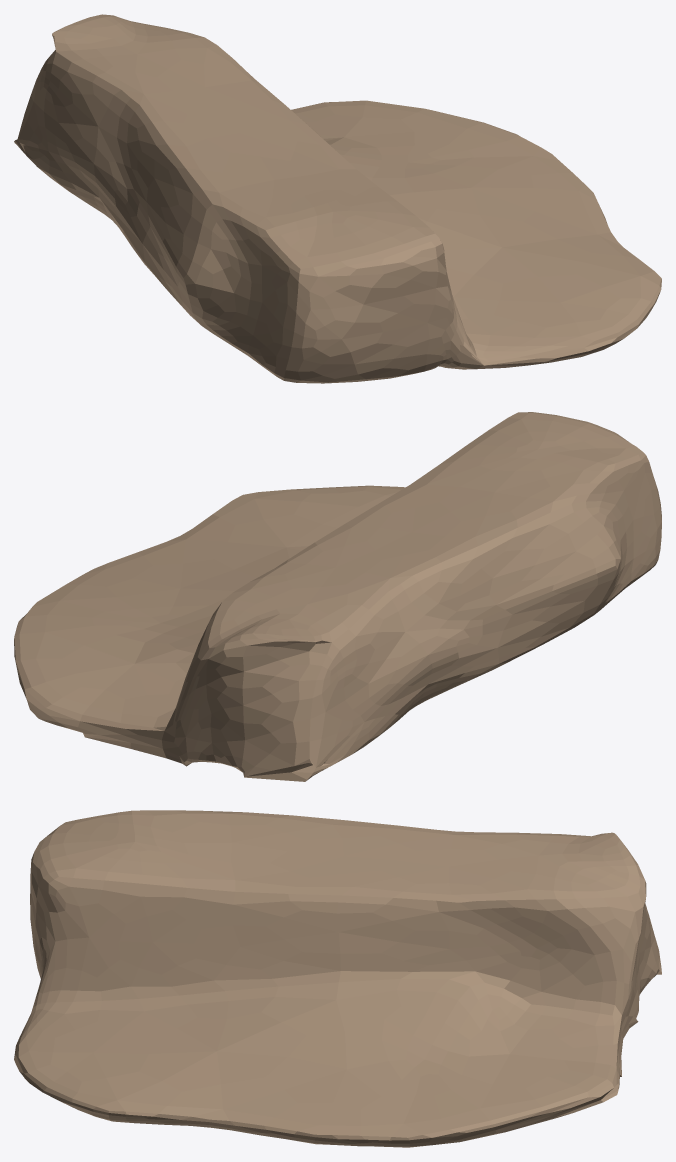
File: shelf_large.fbx
3 views of the same model, one above another, from view 1: azimuth 30°, elevation 25°; view 2: azimuth 150°, elevation 25°; view 3: azimuth 270°, elevation 25° (orthographic). The views are drawn at different scales.
Parts seen in each view (by area): view 1: Plane; view 2: Plane; view 3: Plane.
Boxes of the visible parts, <box> form: Plane: <box>14,14,661,383</box>; Plane: <box>14,412,661,781</box>; Plane: <box>14,810,661,1147</box>.
Bounding box in the file's own units: 601 × 185 × 752.
